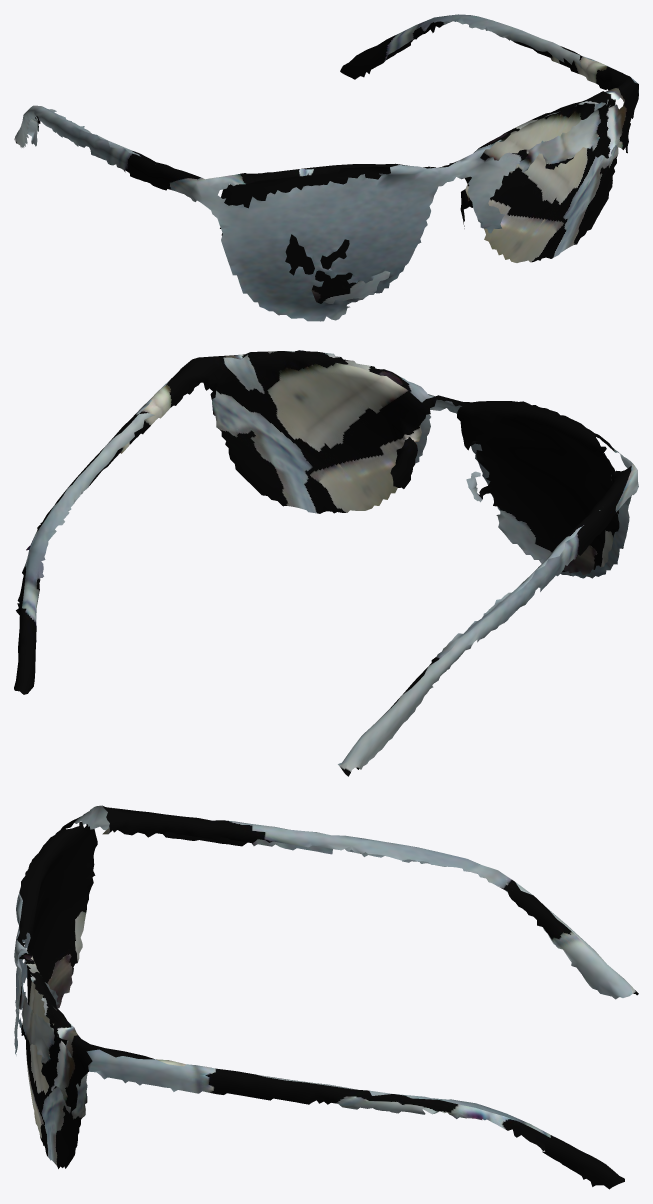
Rendered from scan_align.obj.
The picture shows the model from 3 angles, top to bottom: view 1: azimuth 30°, elevation 25°; view 2: azimuth 150°, elevation 25°; view 3: azimuth 270°, elevation 25°; orthographic projection. The views are drawn at different scales.
Bounding box in the file's own units: 0.1425 × 0.0476 × 0.1491.
